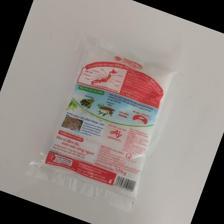Ajinomoto: (41, 47, 178, 201)
